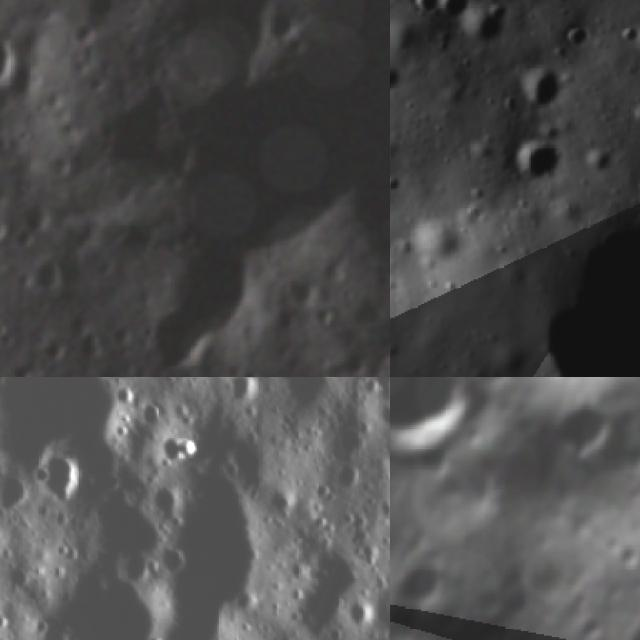crater: (0, 377, 153, 510), (524, 214, 640, 377), (46, 529, 202, 640), (263, 527, 388, 640), (390, 377, 500, 486), (535, 378, 637, 483), (23, 431, 102, 517), (390, 547, 459, 624), (139, 475, 203, 537), (504, 133, 568, 190), (500, 64, 566, 119), (215, 377, 281, 426), (448, 0, 507, 54), (337, 585, 390, 640), (146, 536, 194, 590), (0, 463, 40, 522), (0, 27, 28, 94), (607, 432, 640, 486), (16, 194, 60, 234), (480, 342, 526, 377), (36, 252, 71, 292), (424, 0, 473, 28), (554, 22, 594, 54), (308, 301, 344, 335), (583, 142, 615, 174), (390, 54, 408, 110), (369, 392, 390, 438), (628, 100, 640, 131), (390, 167, 403, 195)
